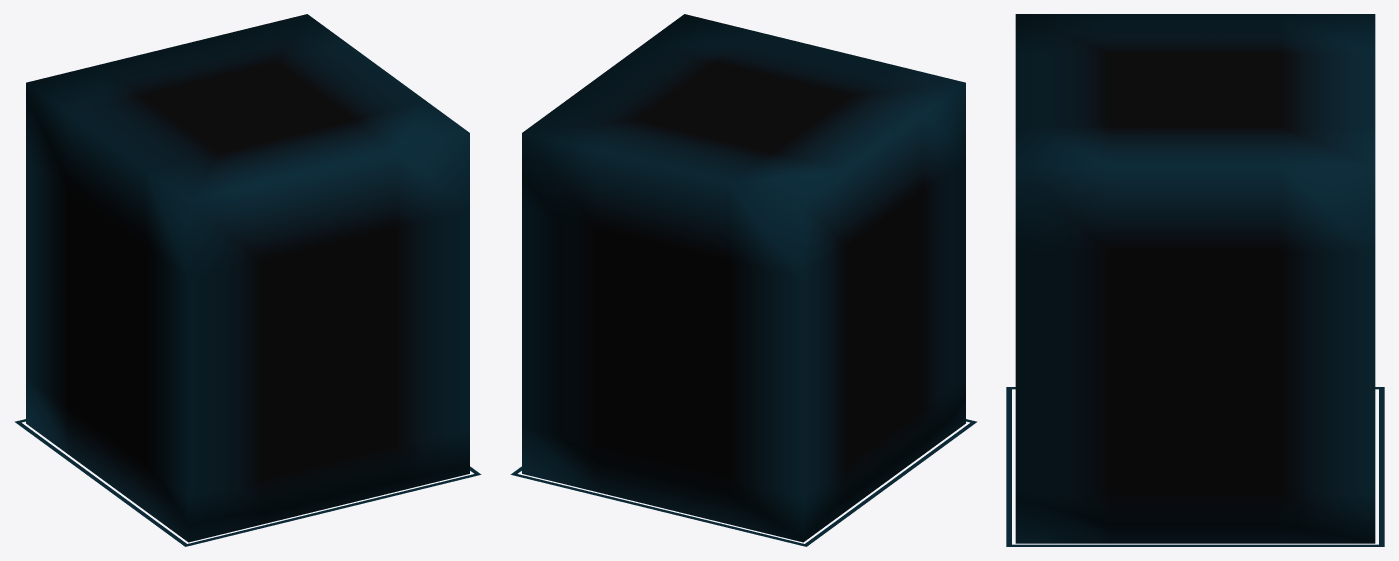
File: pillar.glb
3 renders of one model, left to right at view 1: azimuth 30°, elevation 25°; view 2: azimuth 150°, elevation 25°; view 3: azimuth 270°, elevation 25°, orthographic. The views are drawn at different scales.
Visible parts, largest first — view 1: pillar_block, pillar_base; view 2: pillar_block, pillar_base; view 3: pillar_block, pillar_base.
Part boxes in pixels (box(x1,y1,x2,y2)): pillar_block: box(26, 14, 469, 542); pillar_base: box(14, 419, 481, 546); pillar_block: box(522, 14, 965, 542); pillar_base: box(510, 419, 977, 546); pillar_block: box(1015, 14, 1375, 543); pillar_base: box(1006, 387, 1384, 546).
Size of the model in its own units: 2 by 2.2 by 2.
